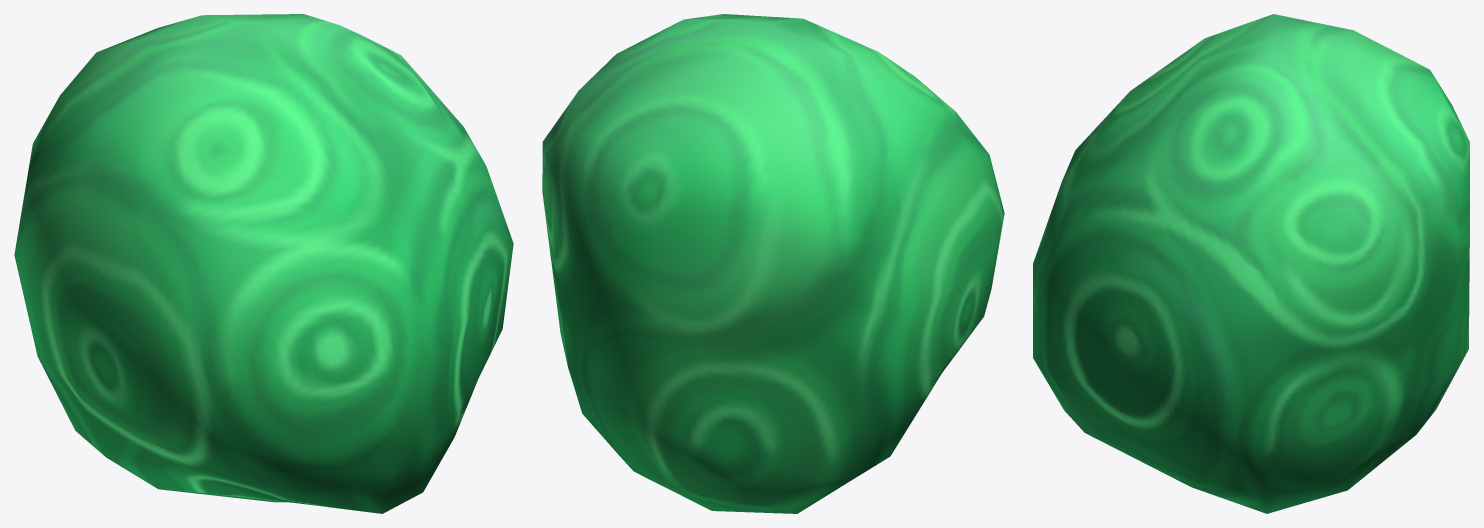
File: Healstone.glb
3 renders of one model, left to right at view 1: azimuth 30°, elevation 25°; view 2: azimuth 150°, elevation 25°; view 3: azimuth 270°, elevation 25°, orthographic. The views are drawn at different scales.
Visible parts, largest first — view 1: Cube.002; view 2: Cube.002; view 3: Cube.002.
Part boxes in pixels (<box>): Cube.002: <box>14,14,513,513</box>; Cube.002: <box>542,14,1004,513</box>; Cube.002: <box>1033,14,1469,513</box>.
Size of the model in its own units: 0.2067 by 0.2264 by 0.2048.
Materials: 1 (1 with a texture image).
